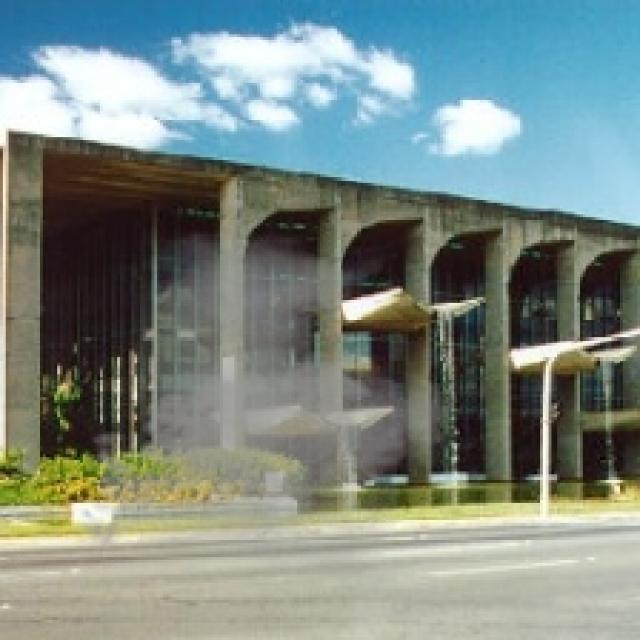Smoke: (66, 232, 468, 597)
